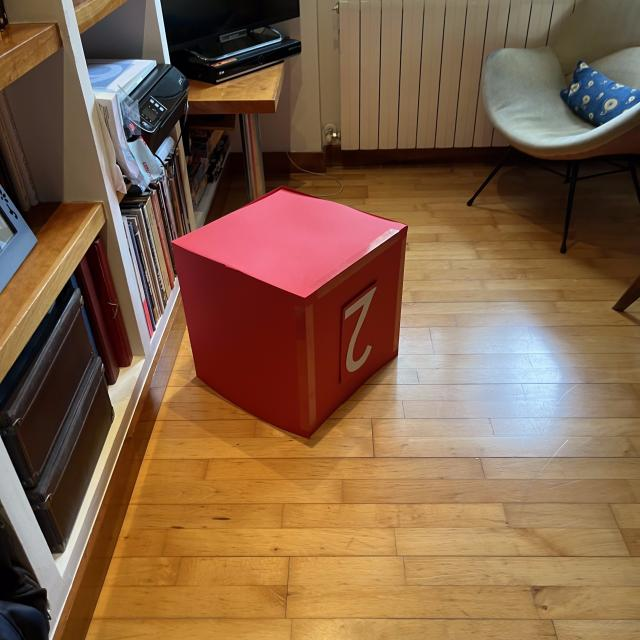box: (167, 182, 411, 440)
